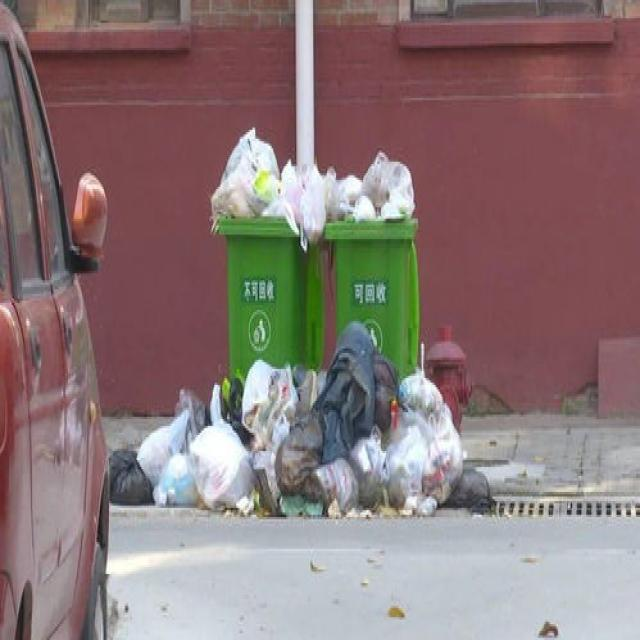garbage: (106, 319, 490, 515)
overflow: (215, 126, 322, 372), (324, 150, 419, 374)
